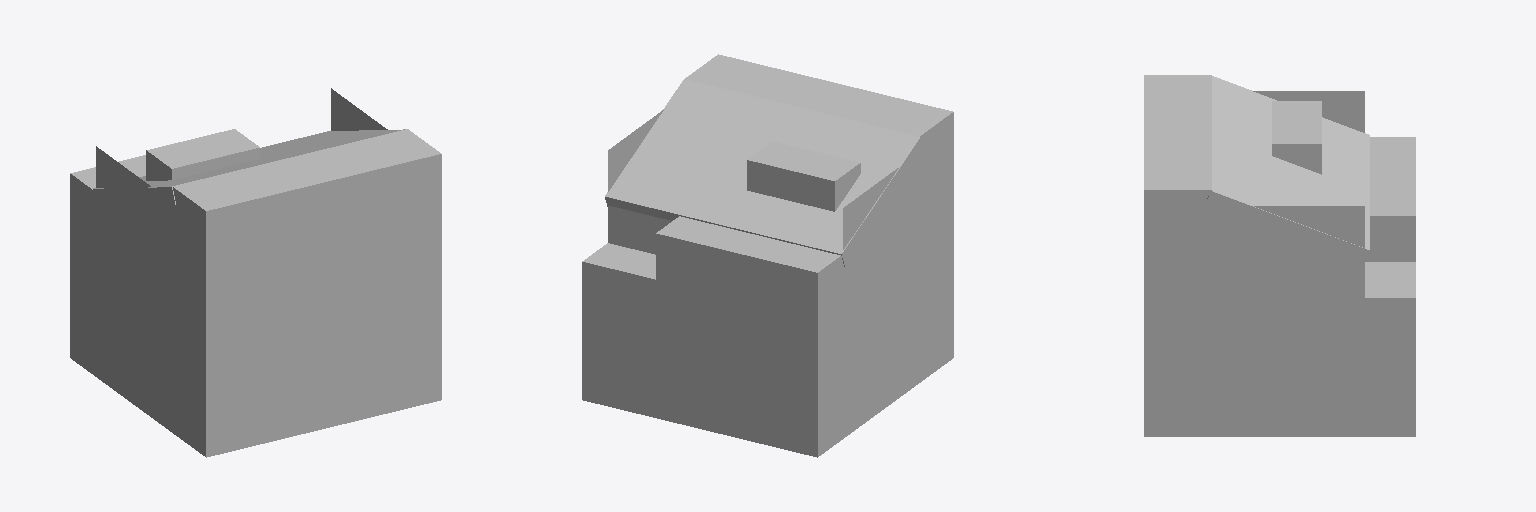
Rendered from mechanical_calculator.obj.
3 renders of one model, left to right at view 1: azimuth 30°, elevation 25°; view 2: azimuth 150°, elevation 25°; view 3: azimuth 270°, elevation 25°, orthographic.
Visible parts, largest first — view 1: c1, c2, c5, c7, c4, c3, c6; view 2: c1, c5, c6, c2, c7, c3, c4; view 3: c1, c5, c2, c4, c3, c6, c7.
Boxes of the visible parts, x1,y1,x2,y2 form: c1: [70, 220, 441, 457]; c2: [172, 129, 441, 318]; c5: [93, 129, 404, 206]; c7: [146, 129, 259, 180]; c4: [96, 88, 387, 246]; c3: [96, 207, 171, 293]; c6: [70, 155, 145, 237]; c1: [582, 220, 953, 457]; c5: [605, 79, 923, 266]; c6: [656, 216, 842, 318]; c2: [685, 54, 953, 243]; c7: [747, 141, 860, 211]; c3: [608, 198, 919, 299]; c4: [608, 110, 919, 249]; c1: [1144, 262, 1415, 436]; c5: [1204, 76, 1369, 265]; c2: [1144, 75, 1211, 297]; c4: [1212, 91, 1364, 251]; c3: [1212, 252, 1364, 297]; c6: [1365, 137, 1415, 261]; c7: [1272, 101, 1321, 174].
Bounding box in the file's own units: 1.01 × 1 × 1.